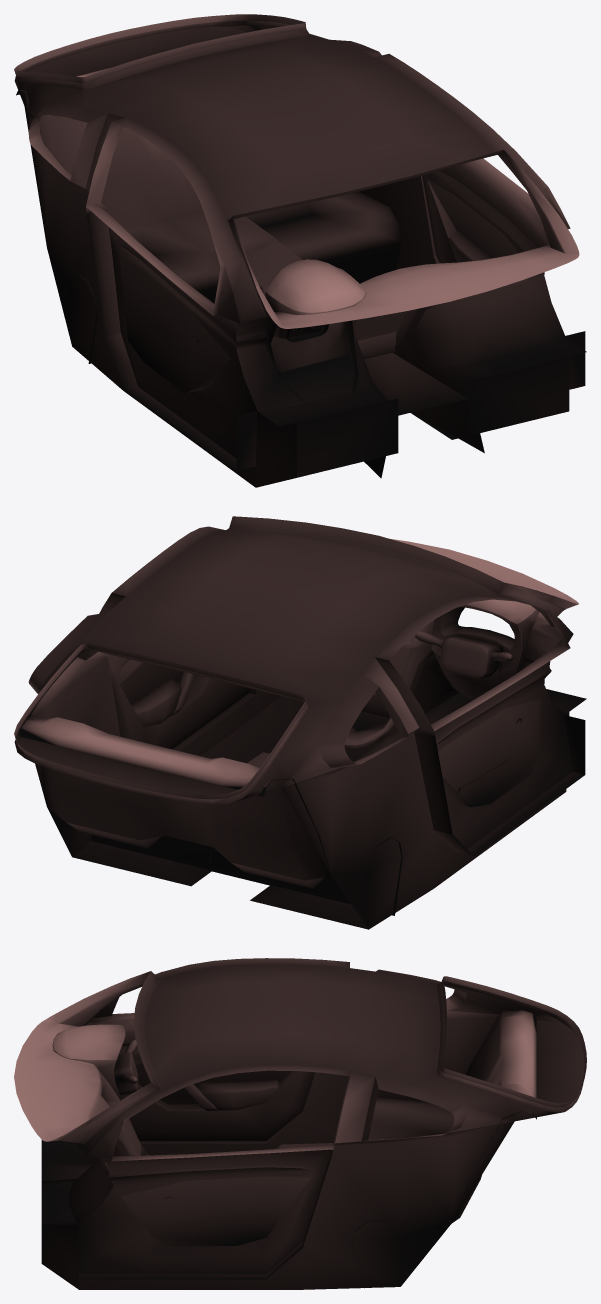
Rendered from G37_Inside_Trim.fbx.
3 views of the same model, one above another, from view 1: azimuth 30°, elevation 25°; view 2: azimuth 150°, elevation 25°; view 3: azimuth 270°, elevation 25° (orthographic). The views are drawn at different scales.
Parts seen in each view (by area): view 1: G37_Inside_Trim; view 2: G37_Inside_Trim; view 3: G37_Inside_Trim.
Boxes of the visible parts, left/top/right/bottom form: G37_Inside_Trim: left=14, top=14, right=586, bottom=487; G37_Inside_Trim: left=14, top=516, right=586, bottom=929; G37_Inside_Trim: left=14, top=958, right=586, bottom=1289.
Size of the model in its own units: 156 by 109 by 256.
